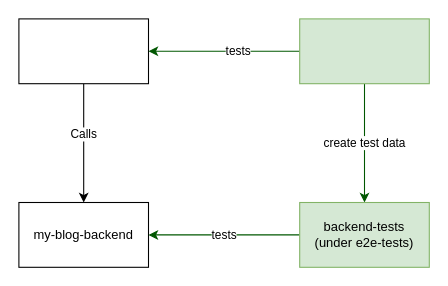
This 448x286 diagram has some shape labels left out. The centre of each missing label's shape, as x and y in pixels:
"fe-tests-cypress (under e2e-tests/frontend-tests)" goes at point (364, 51).
"my-blog" goes at point (83, 51).
